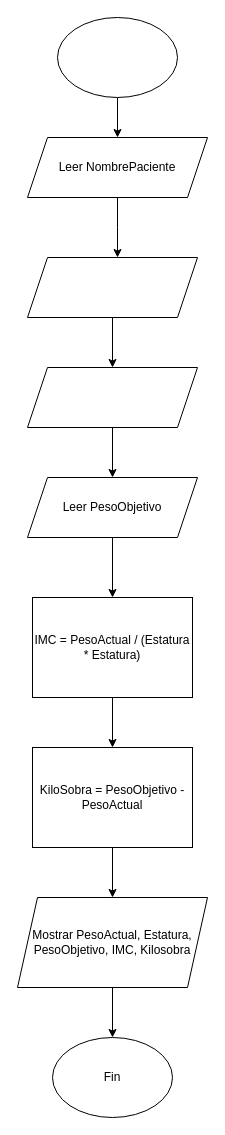
Image size: 225x1135. Some labels were removed from this diagram. Each missing label, with the centre of its shape:
Inicio: point 117,57
Leer Estatura: point 112,397
Leer PesoActual: point 112,287
